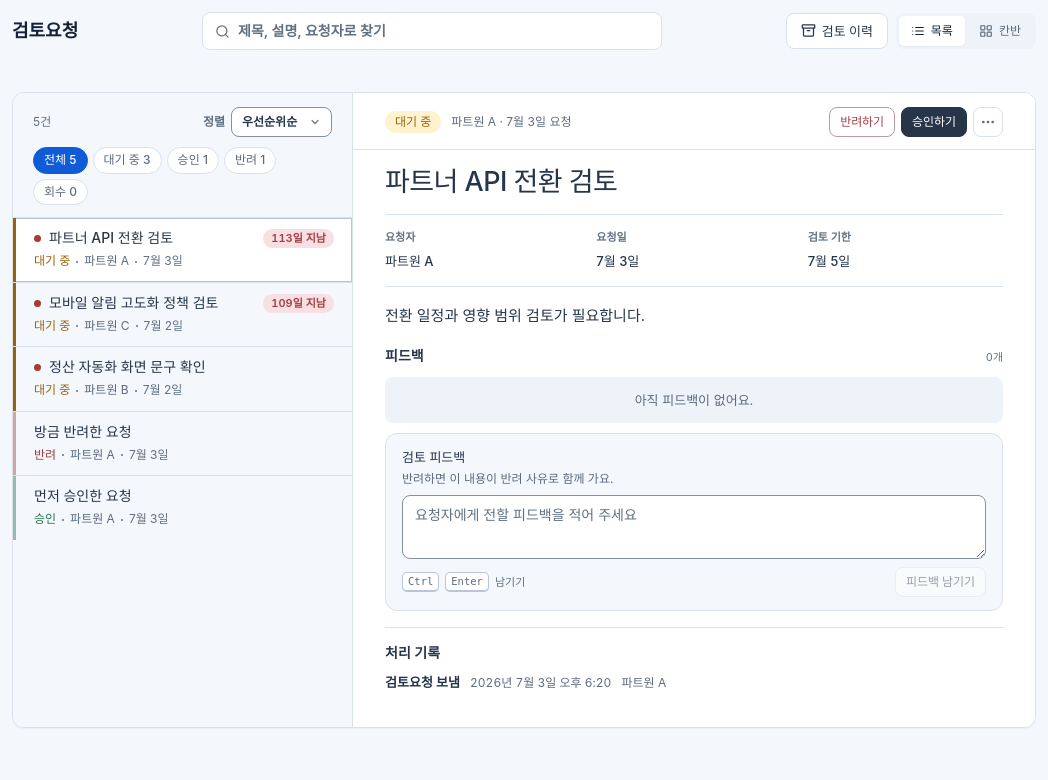
Test: ReviewsPanel › sorts by decision time and shows when each request was decided
Select "처리 시점순" in the dropdown labelled "정렬": (282, 122) [231,107,332,137]
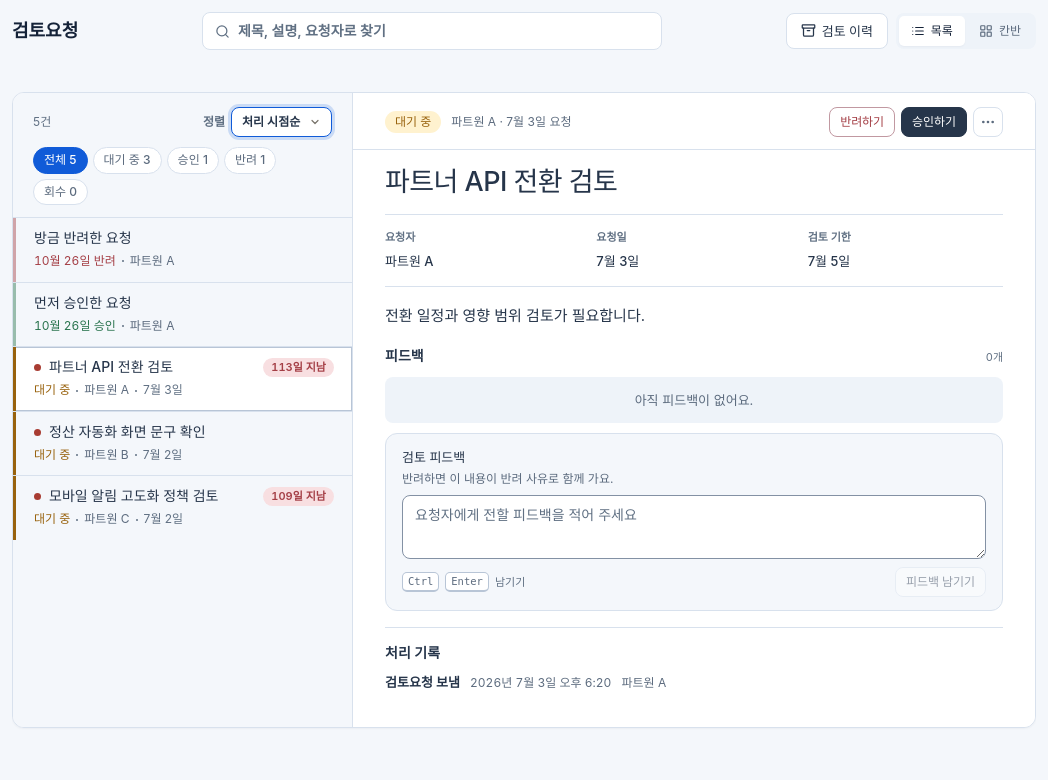
Expected: the text "10월 26일 반려" is shown, [34,253,116,268]
